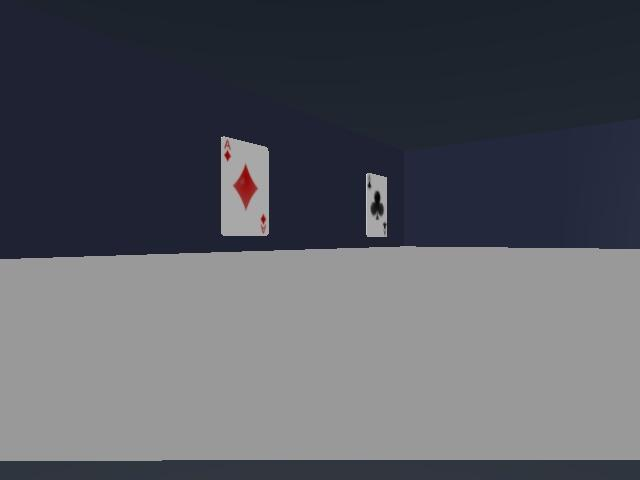club: (366, 173, 387, 236)
diamond: (221, 137, 269, 235)
